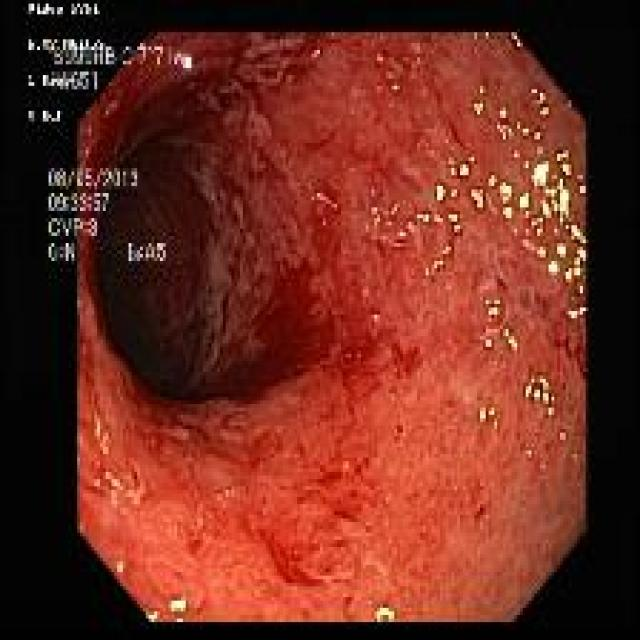ulcerative-colitis: (80, 33, 586, 621)
